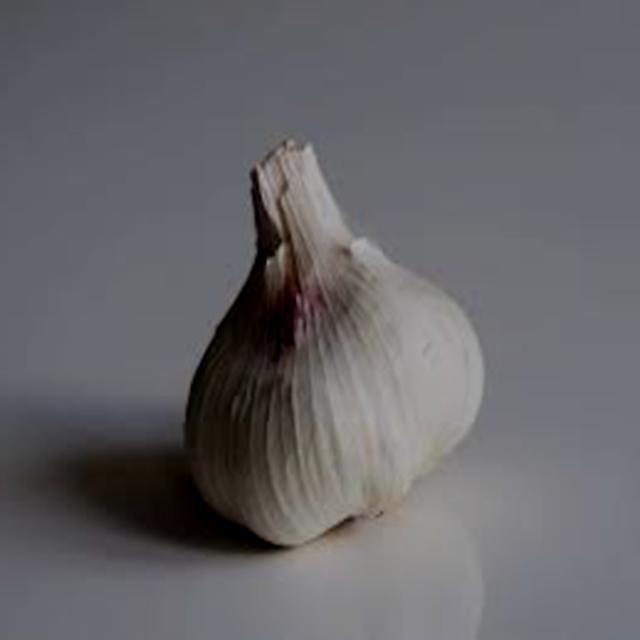garlic: (185, 138, 484, 544)
